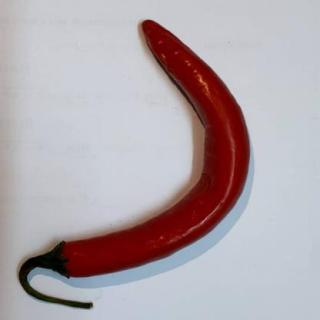Cabai Merah: (16, 20, 251, 311)
